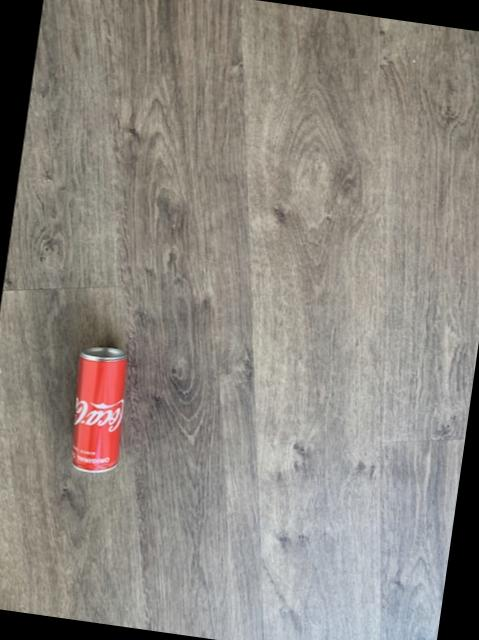metal: (71, 345, 125, 470)
